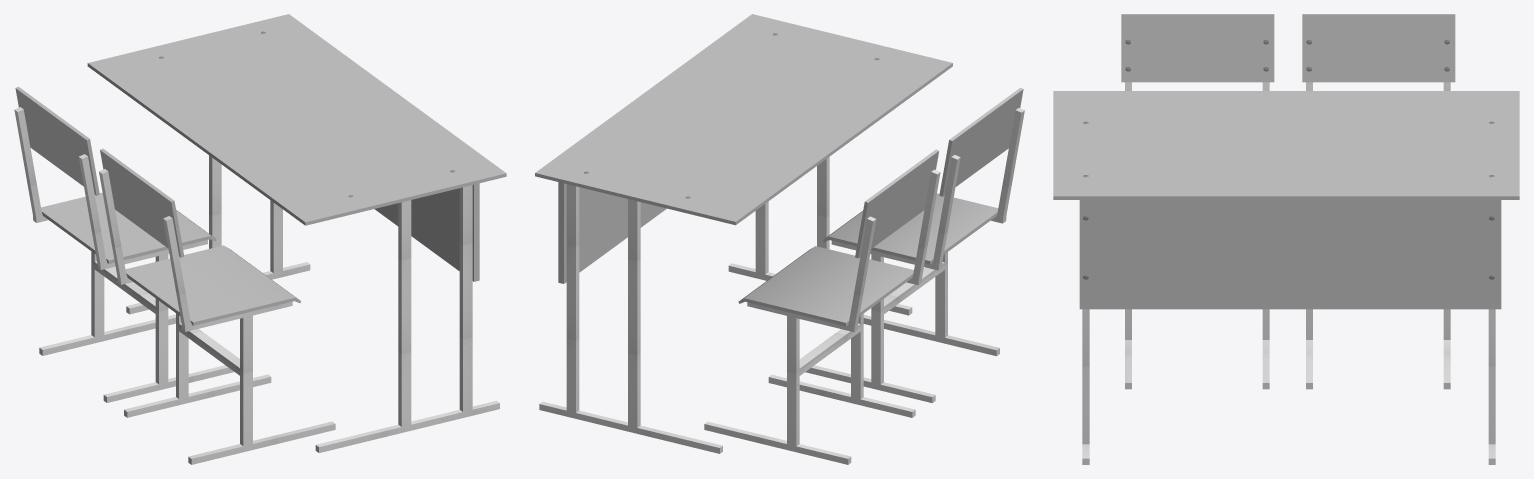
The model's file is TableSchool01.FBX.
The picture shows the model from 3 angles, left to right: view 1: azimuth 30°, elevation 25°; view 2: azimuth 150°, elevation 25°; view 3: azimuth 270°, elevation 25°; orthographic projection. The views are drawn at different scales.
Visible parts, largest first — view 1: TableWood, TableMetall; view 2: TableWood, TableMetall; view 3: TableWood, TableMetall.
Boxes of the visible parts, left/top/right/bottom form: TableWood: left=15, top=14, right=506, bottom=325; TableMetall: left=14, top=107, right=499, bottom=464; TableWood: left=535, top=14, right=1023, bottom=326; TableMetall: left=539, top=108, right=1024, bottom=464; TableWood: left=1053, top=14, right=1519, bottom=309; TableMetall: left=1082, top=82, right=1495, bottom=464.
Size of the model in its own units: 274 by 226 by 330.
